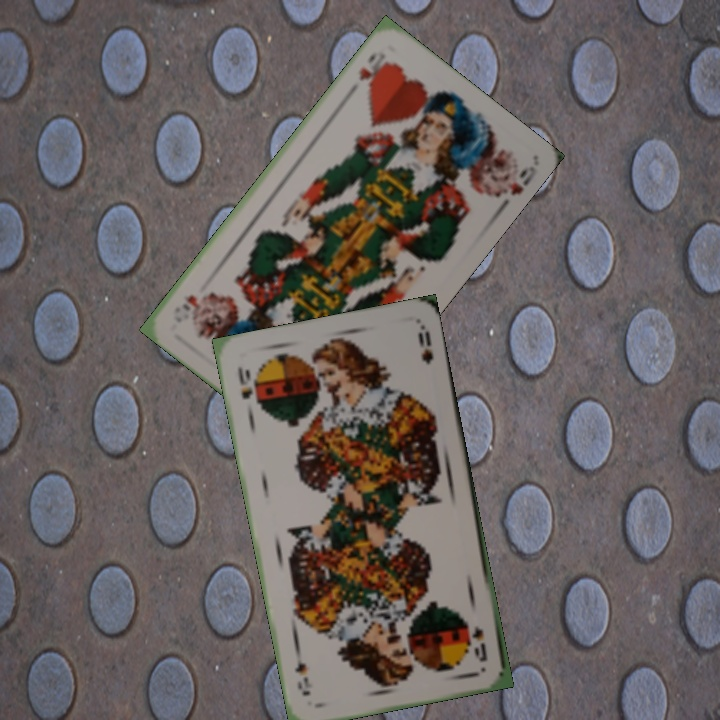HO: (354, 48, 391, 89)
SO: (467, 623, 490, 665), (233, 363, 256, 402)
